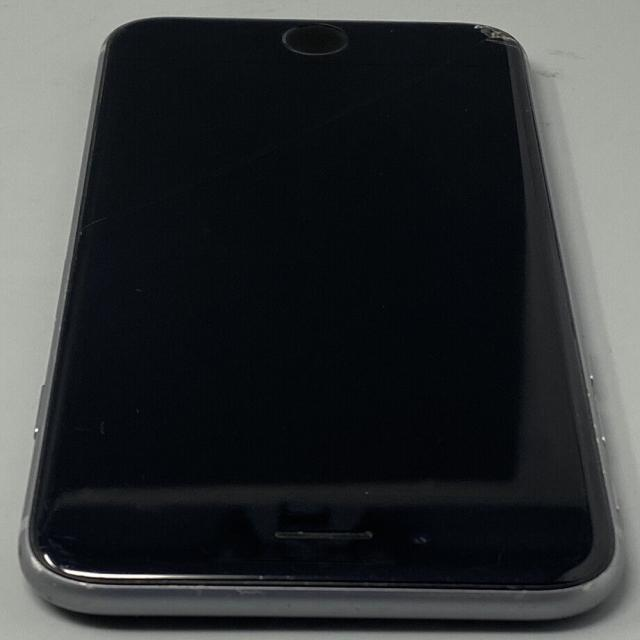Dents: (232, 583, 275, 606), (580, 584, 610, 600)
